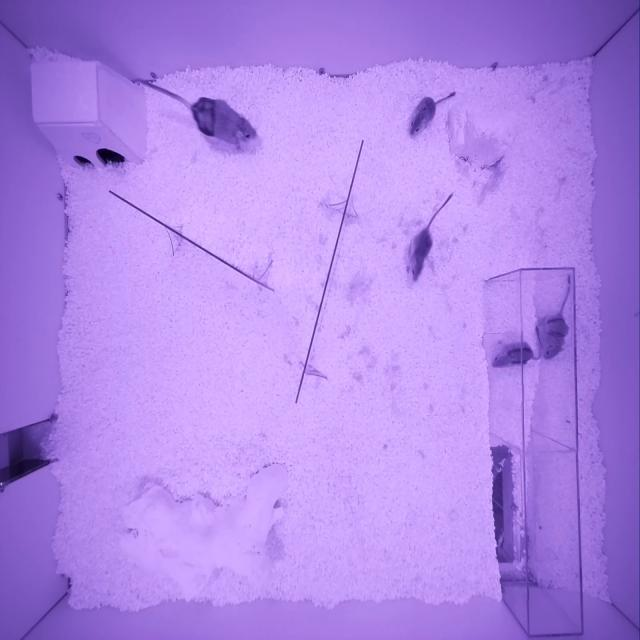adult_back: (192, 96, 257, 145)
pup_fluffy: (409, 96, 437, 136)
pup_h_stripe: (539, 312, 568, 358)
pup_spotted: (406, 228, 433, 282)
pup_v_stripe: (491, 341, 533, 366)
